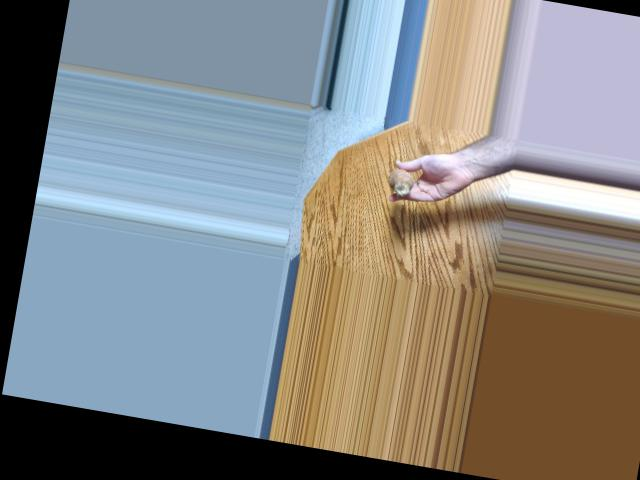sweet_potato: (384, 166, 415, 195)
